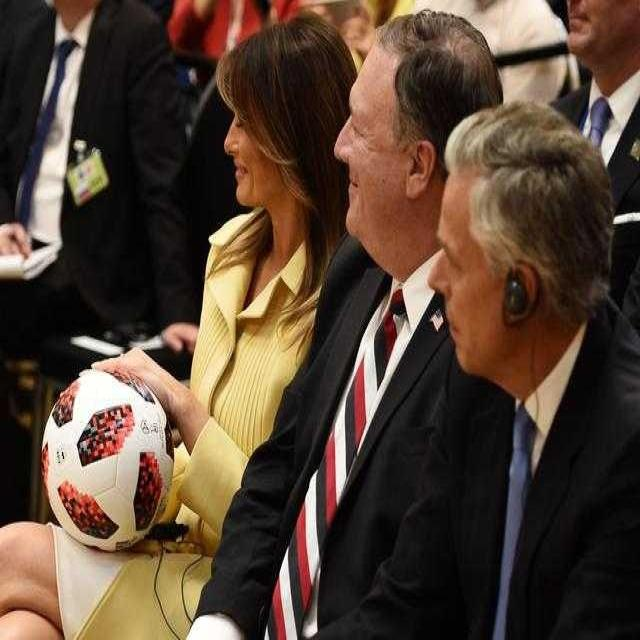ball: (42, 367, 176, 555)
